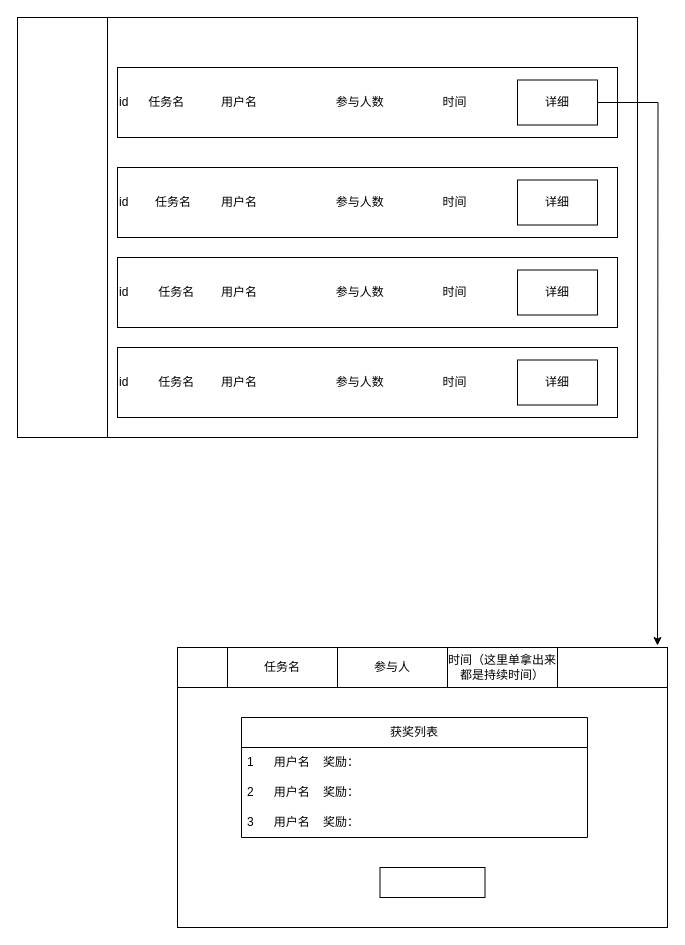
Image size: 685x945. Some labels were removed from this diagram. Here are the shapes that lost their labels. From the top down, the centre of each, then its label:
point (62, 227): 菜单
point (202, 667): id
point (612, 667): 开始时间
point (432, 882): 了解了
